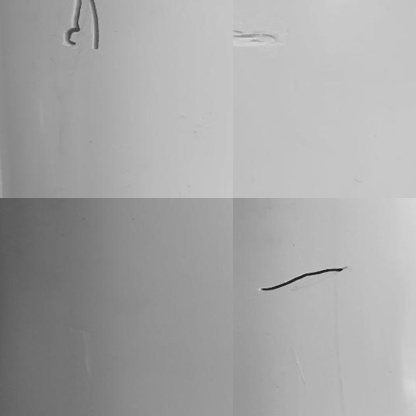fengxi: (254, 261, 352, 291), (61, 1, 104, 52)
sunshang: (234, 28, 282, 56)
